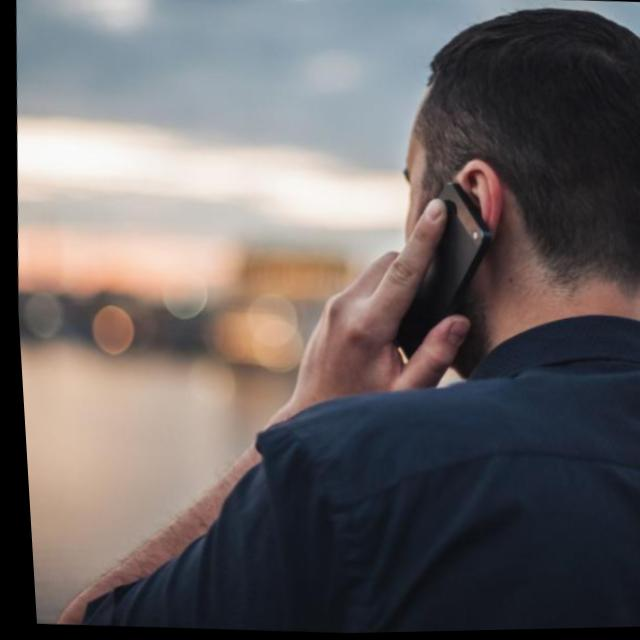USING_MOBILE: (19, 140, 510, 640)
